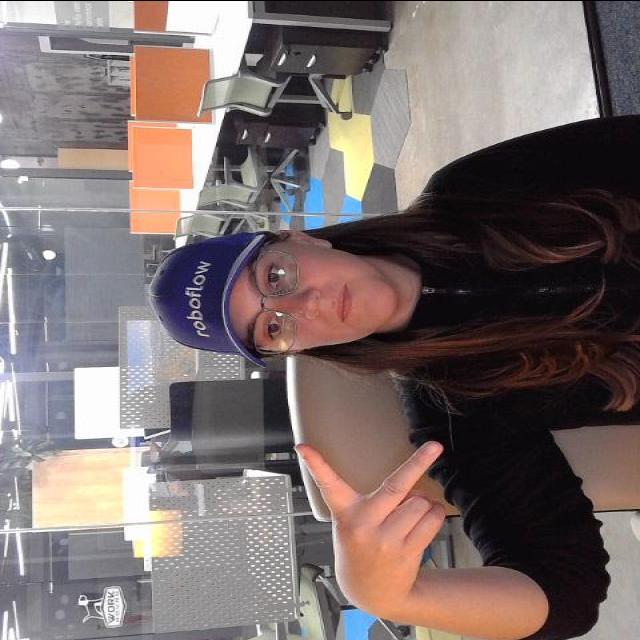Scissors: (295, 396, 453, 622)
